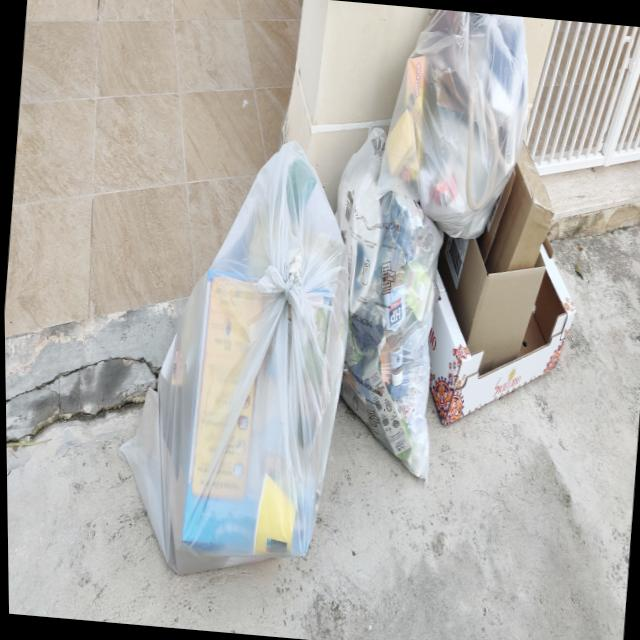Others Waste: (427, 145, 576, 433)
Recyclable Material -Grey Bags-: (119, 9, 529, 578)
